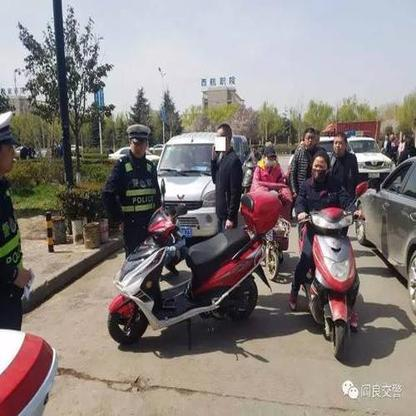target: (288, 149, 368, 361)
